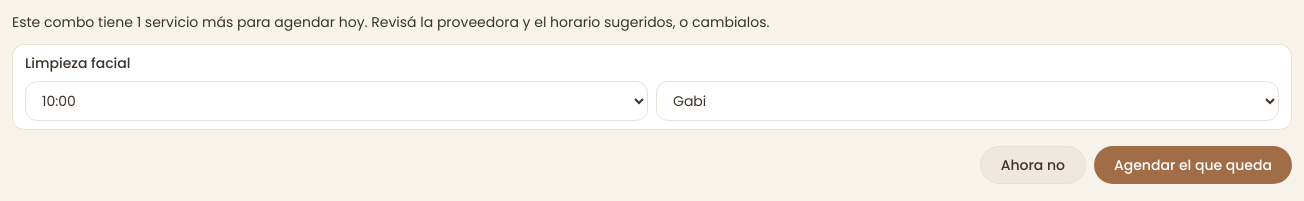
Test: ComboPendientesPanel › el botón se apaga mientras envía, para no mandar el mismo turno dos veces
Expected: the 1st dropdown showing "10:00" is shown, [25,81,648,121]
Click the button "Agendar el que queda" at (1193, 165), box [1094,146,1292,184]
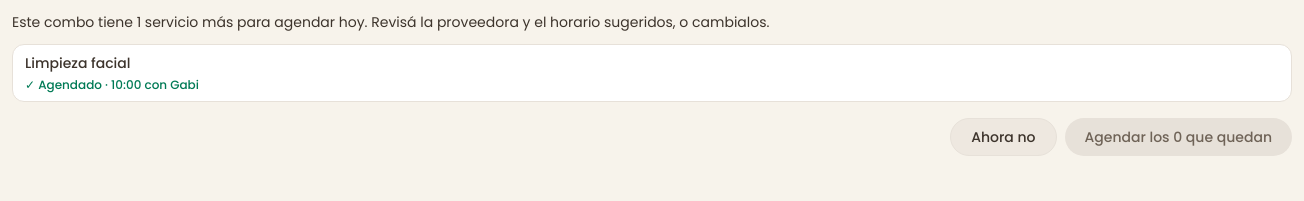
Expected: the button "Agendar los 0 que quedan" is disabled, [1064,118,1292,156]
